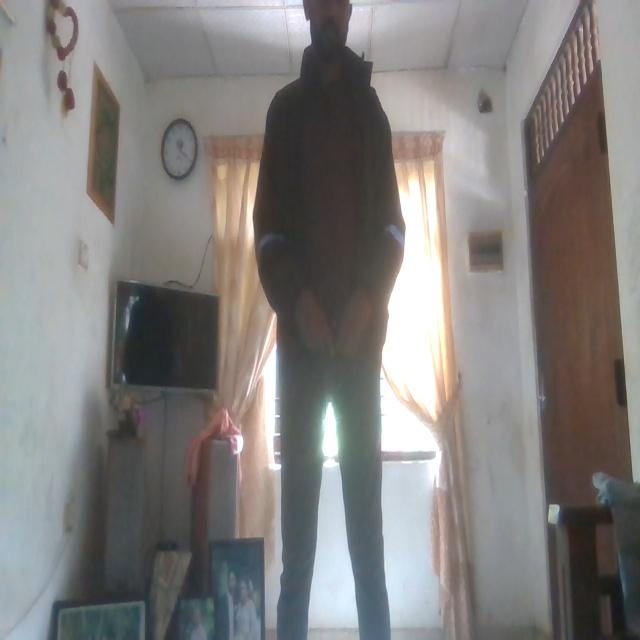Helmet_Wearer: (254, 49, 404, 396)
Person: (253, 0, 402, 640)
